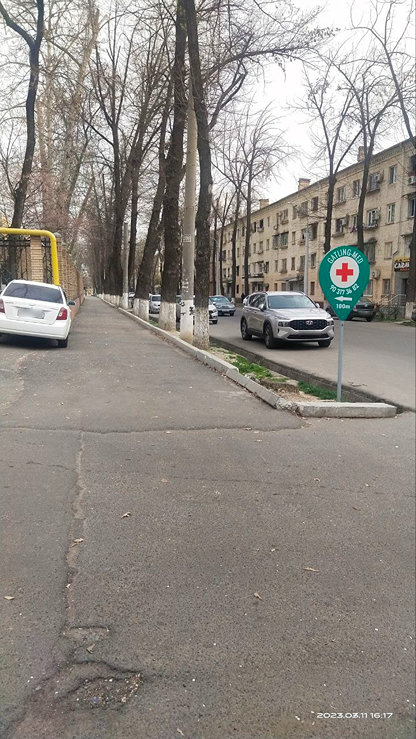car: (240, 288, 339, 348), (0, 271, 73, 342), (213, 292, 234, 316), (150, 295, 163, 315)
tree: (91, 0, 155, 291), (171, 0, 224, 331), (0, 0, 57, 225), (243, 88, 272, 276)
